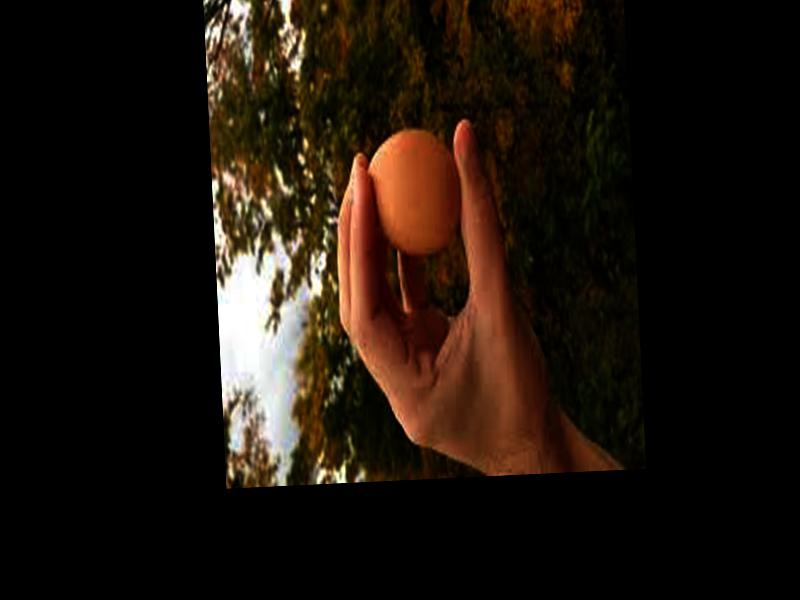Eggs: (364, 127, 464, 256)
